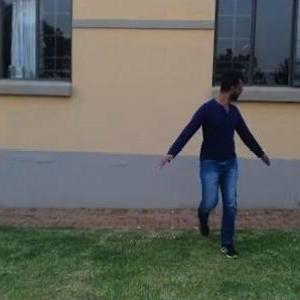land: (160, 54, 280, 262)
